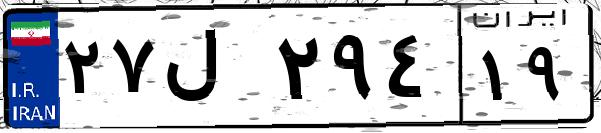1: (475, 38, 525, 113)
2: (270, 28, 330, 110), (57, 26, 110, 100)
4: (385, 28, 445, 110)
7: (110, 28, 158, 98)
9: (330, 28, 385, 110), (525, 38, 570, 115)
ل: (158, 20, 270, 120)
